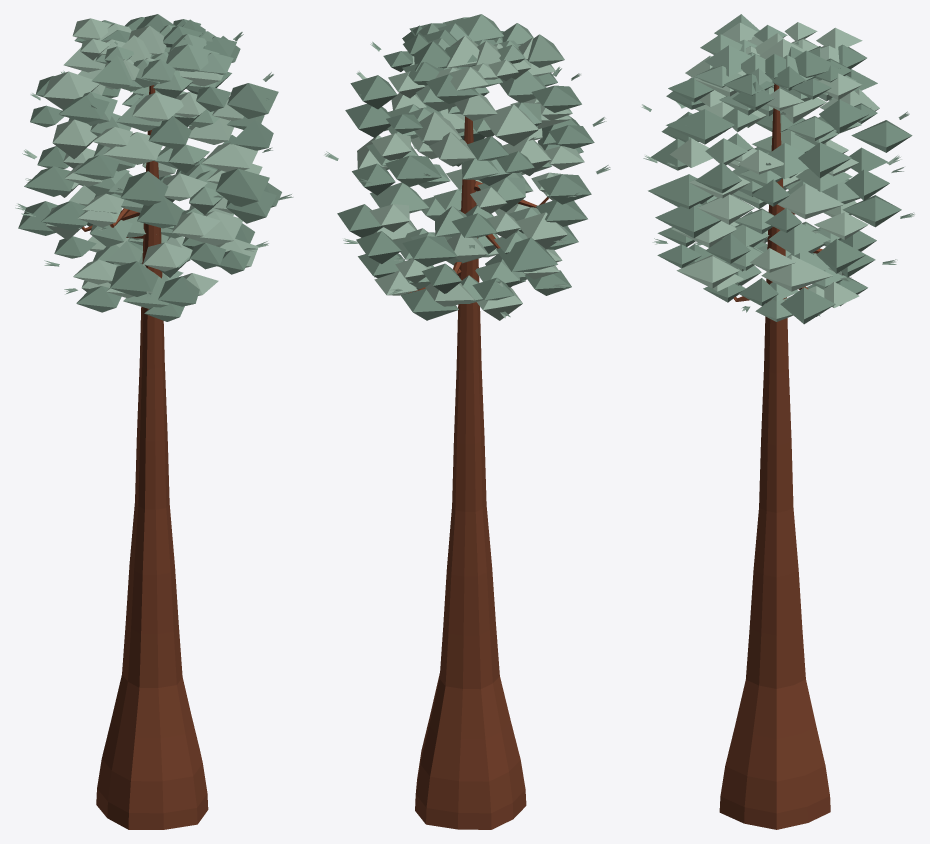
File: sequoia-mass.glb
The picture shows the model from 3 angles, left to right: view 1: azimuth 30°, elevation 25°; view 2: azimuth 150°, elevation 25°; view 3: azimuth 270°, elevation 25°; orthographic projection.
Parts seen in each view (by area): view 1: SEQUOIA_MASS; view 2: SEQUOIA_MASS; view 3: SEQUOIA_MASS.
Part boxes in pixels (x1,y1,x2,y2): SEQUOIA_MASS: (15,14,293,829); SEQUOIA_MASS: (324,14,610,829); SEQUOIA_MASS: (641,14,914,829).
Bounding box in the file's own units: 28.6 × 84.69 × 27.63.
